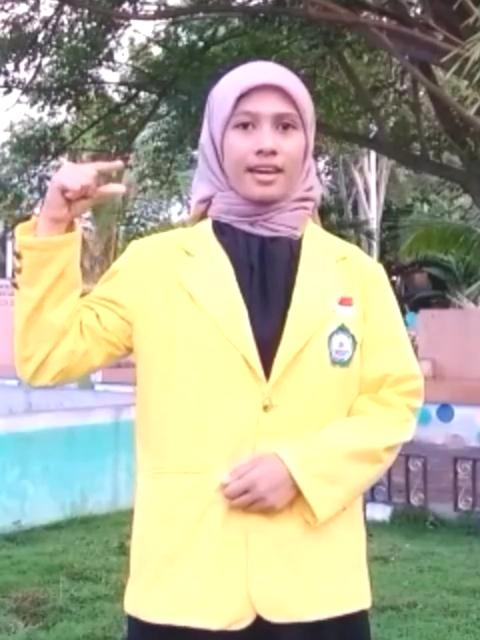G: (42, 154, 132, 226)
